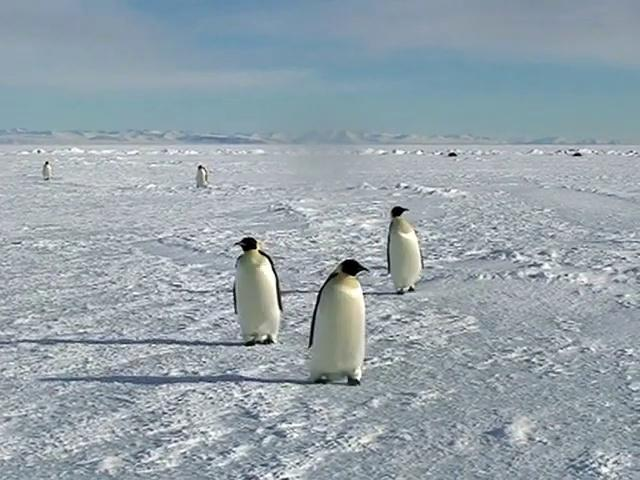animal: (387, 206, 422, 293)
